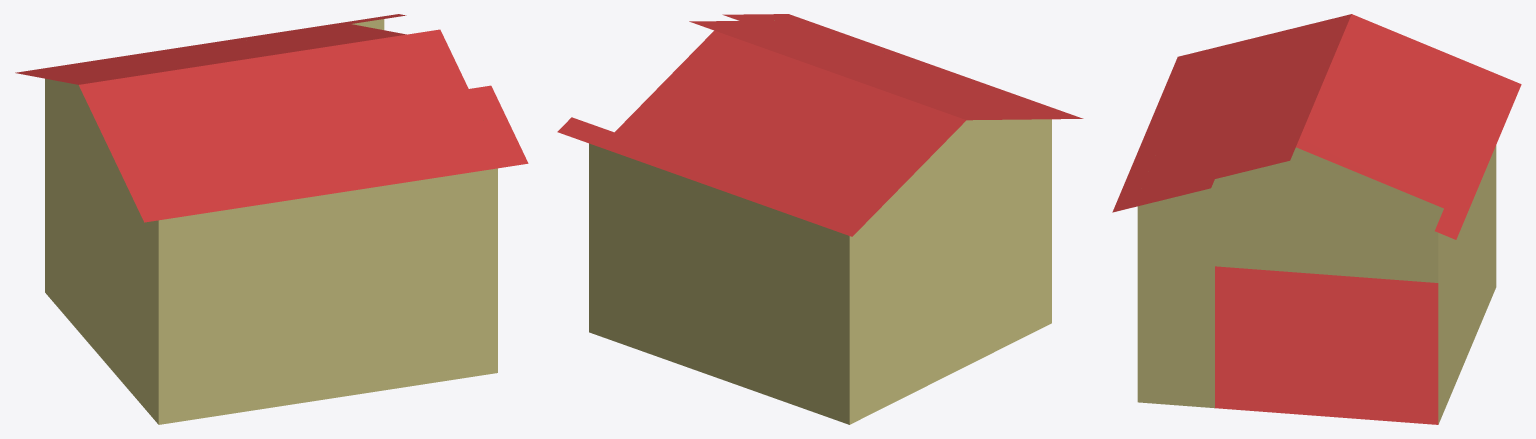
3 renders of one model, left to right at view 1: azimuth 30°, elevation 25°; view 2: azimuth 150°, elevation 25°; view 3: azimuth 270°, elevation 25°, orthographic. The views are drawn at different scales.
Bounding box in the file's own units: 14.67 × 13.98 × 9.54.
